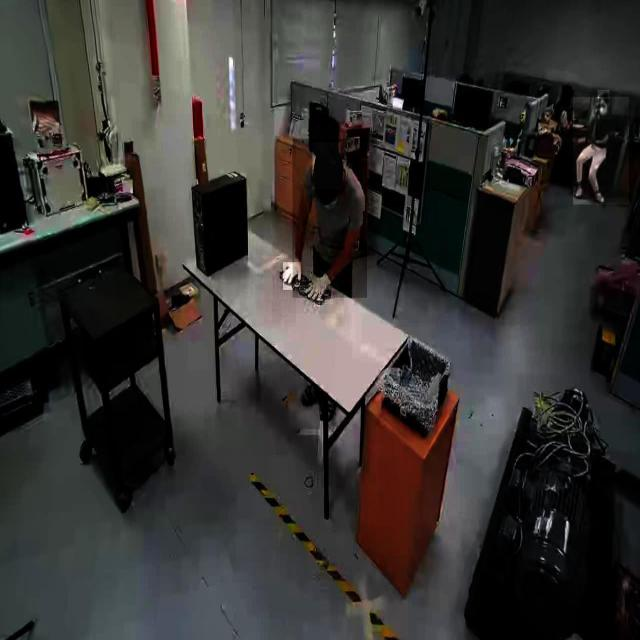face_mask: (598, 97, 610, 119)
hand_glove: (304, 267, 334, 305), (283, 262, 301, 291)
head_nohelmet: (313, 142, 341, 190), (598, 90, 610, 100), (562, 86, 573, 94)
person: (292, 138, 368, 298), (573, 97, 629, 205)
